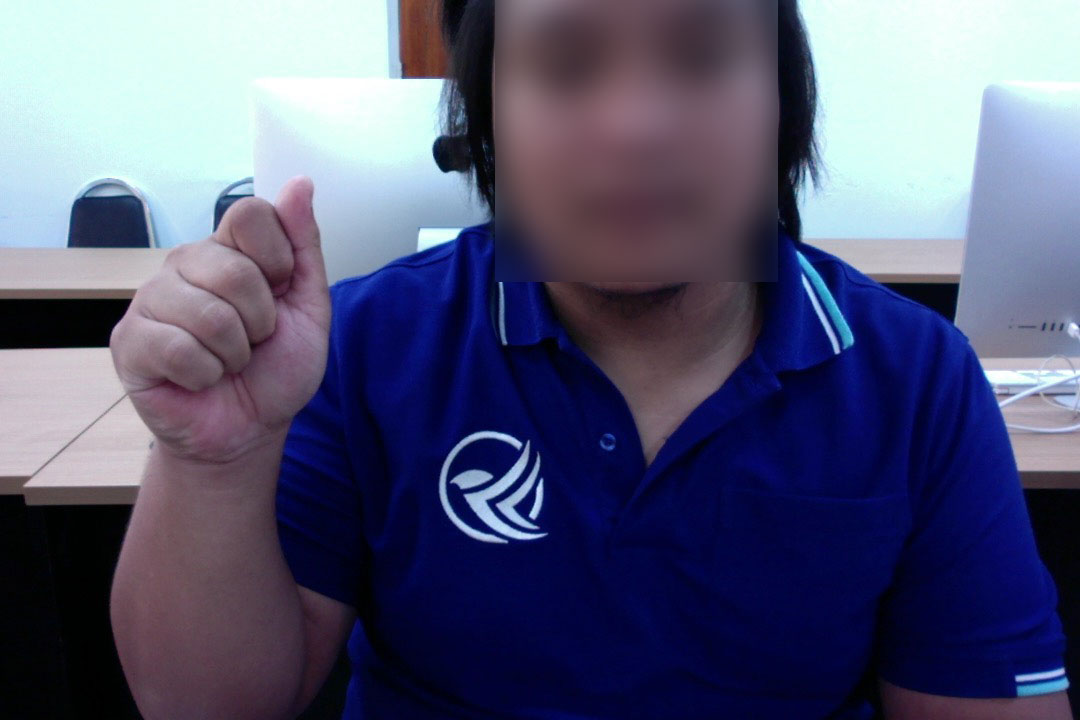or: (96, 155, 345, 481)
